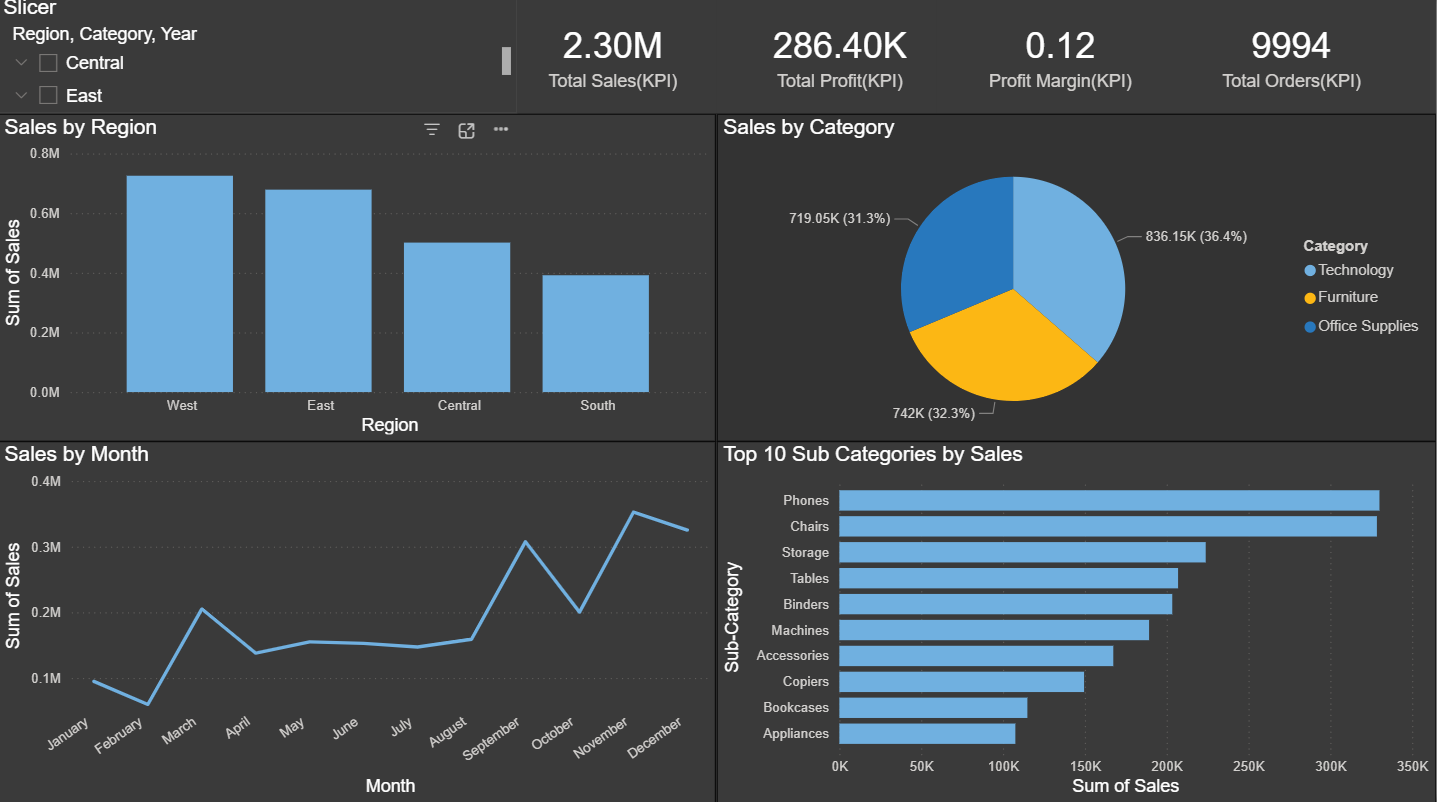

Layout of this report page (visuals, bound fields, positions):
{"tool":"powerbi","page":{"name":"Page 1","canvas":[1280,720],"ordinal":0},"visuals":[{"type":"card","fields":{"Values":["Sample - Superstore original.Total Sales"]},"box":[454.9,0,184.9,106.2],"z":0},{"type":"card","fields":{"Values":["Sample - Superstore original.Total Profit"]},"box":[639.7,0,219.6,106.2],"z":1000},{"type":"card","fields":{"Values":["Sample - Superstore original.Profit Margin(KPI)"]},"box":[835.6,0,220.6,106.2],"z":2000},{"type":"card","fields":{"Values":["Sample - Superstore original.Total Orders"]},"box":[1046.4,0,211.5,106.3],"z":3000},{"type":"clusteredColumnChart","title":"Sales by Region","fields":{"Y":["Sum(Sample - Superstore original.Sales)"],"Category":["Sample - Superstore original.Region"]},"box":[0,105.8,639.5,291.9],"z":4000},{"type":"lineChart","title":"Sales by Month","fields":{"Y":["Sum(Sample - Superstore original.Sales)"],"Category":["Sample - Superstore original.Order Date.Variation.Date Hierarchy.Month"]},"box":[0,397.7,639.5,322.1],"z":5000},{"type":"pieChart","title":" Sales by Category","fields":{"Y":["Sum(Sample - Superstore original.Sales)"],"Category":["Sample - Superstore original.Category"]},"box":[639.5,105.8,640.7,291.9],"z":6000},{"type":"clusteredBarChart","title":"Top 10 Sub Categories by Sales","fields":{"Y":["Sum(Sample - Superstore original.Sales)"],"Category":["Sample - Superstore original.Sub-Category"]},"box":[639.5,397.7,640.7,322.1],"z":7000},{"type":"slicer","title":"Slicer","fields":{"Values":["Sample - Superstore original.Region","Sample - Superstore original.Category","Sample - Superstore original.Year"]},"box":[0,0,462.1,105.7],"z":8000}]}

Visuals, with their boxes in screenshot pixels (x1, y1, x2, y2), scaled from the page's 1280x720 canvas onto the 1437x802 screenshot:
card - Sample - Superstore original.Total Sales: {"left": 511, "top": 0, "right": 718, "bottom": 118}
card - Sample - Superstore original.Total Profit: {"left": 718, "top": 0, "right": 965, "bottom": 118}
card - Sample - Superstore original.Profit Margin(KPI): {"left": 938, "top": 0, "right": 1186, "bottom": 118}
card - Sample - Superstore original.Total Orders: {"left": 1175, "top": 0, "right": 1412, "bottom": 118}
"Sales by Region" clusteredColumnChart: {"left": 0, "top": 118, "right": 718, "bottom": 443}
"Sales by Month" lineChart: {"left": 0, "top": 443, "right": 718, "bottom": 801}
" Sales by Category" pieChart: {"left": 718, "top": 118, "right": 1436, "bottom": 443}
"Top 10 Sub Categories by Sales" clusteredBarChart: {"left": 718, "top": 443, "right": 1436, "bottom": 801}
"Slicer" slicer: {"left": 0, "top": 0, "right": 519, "bottom": 118}
